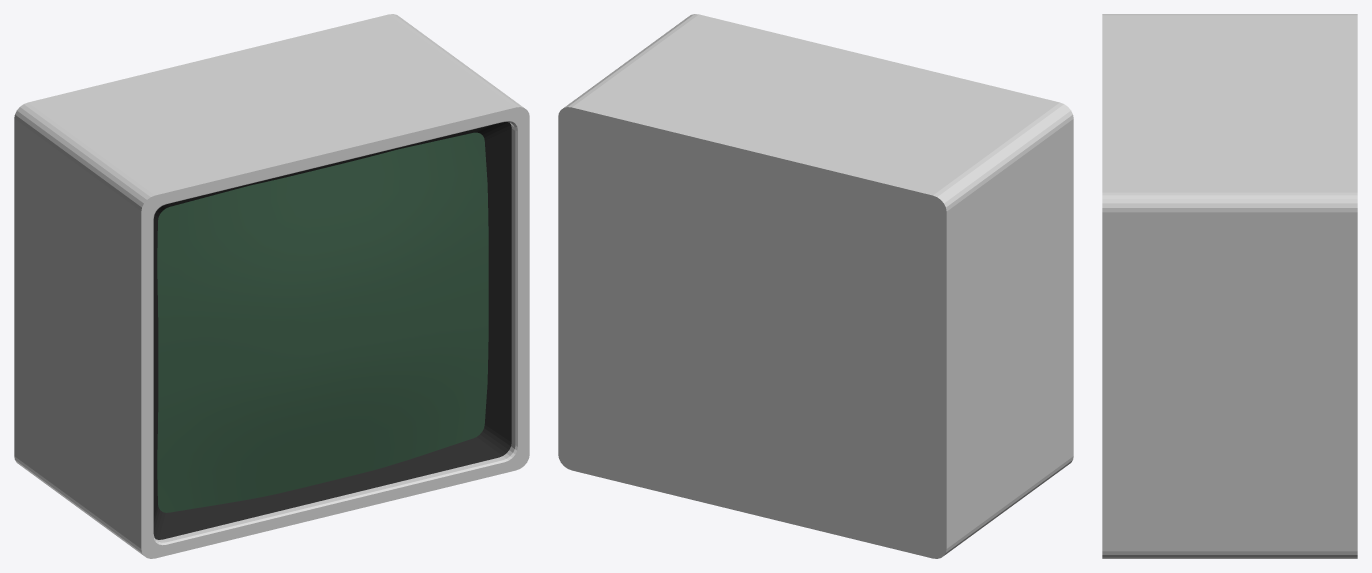
File: monitor2.fbx
3 views of the same model, side by side, from view 1: azimuth 30°, elevation 25°; view 2: azimuth 150°, elevation 25°; view 3: azimuth 270°, elevation 25° (orthographic).
Visible parts, largest first — view 1: Plane.013; view 2: Plane.013; view 3: Plane.013.
Part boxes in pixels (left/top/right/bottom): Plane.013: left=14, top=14, right=529, bottom=558; Plane.013: left=558, top=14, right=1073, bottom=558; Plane.013: left=1102, top=14, right=1357, bottom=558.
Size of the model in its own units: 33.91 by 30.28 by 19.23.
